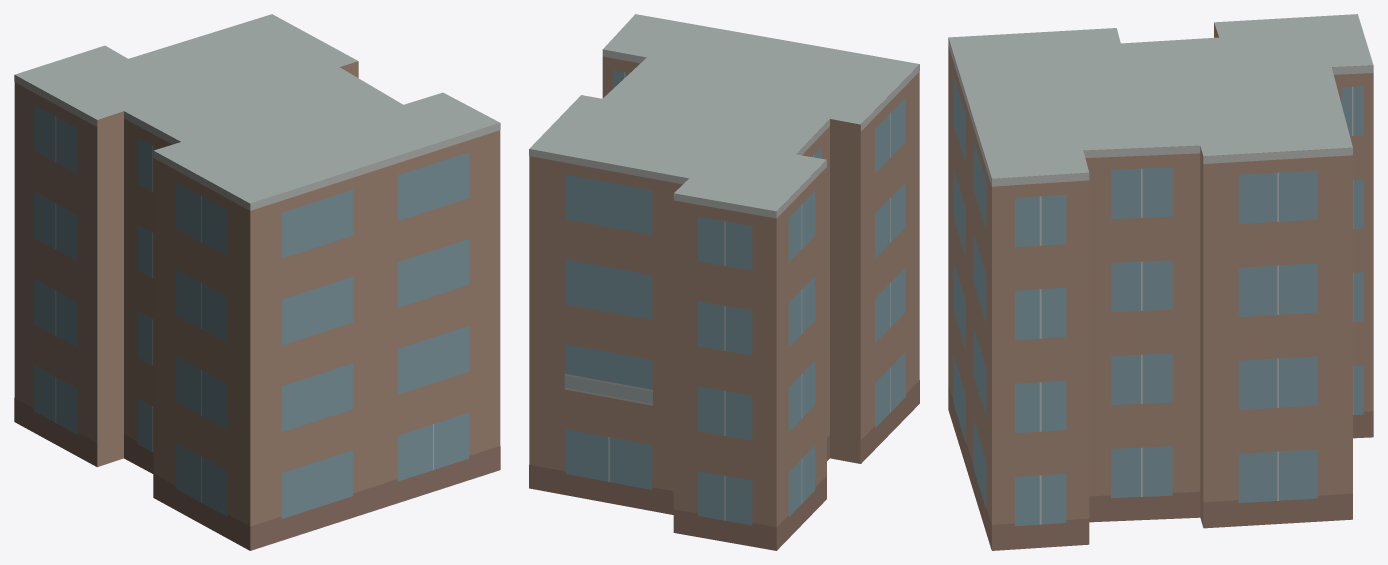
The model's file is survey-upis-32632128.glb.
3 views of the same model, side by side, from view 1: azimuth 30°, elevation 25°; view 2: azimuth 150°, elevation 25°; view 3: azimuth 270°, elevation 25° (orthographic). The views are drawn at different scales.
Parts seen in each view (by area): view 1: survey-upis-32632128.tmp; view 2: survey-upis-32632128.tmp; view 3: survey-upis-32632128.tmp.
Part boxes in pixels (<box>): survey-upis-32632128.tmp: <box>14,14,500,550</box>; survey-upis-32632128.tmp: <box>529,14,919,550</box>; survey-upis-32632128.tmp: <box>948,14,1373,550</box>.
Size of the model in its own units: 11.03 by 11.6 by 12.02.
